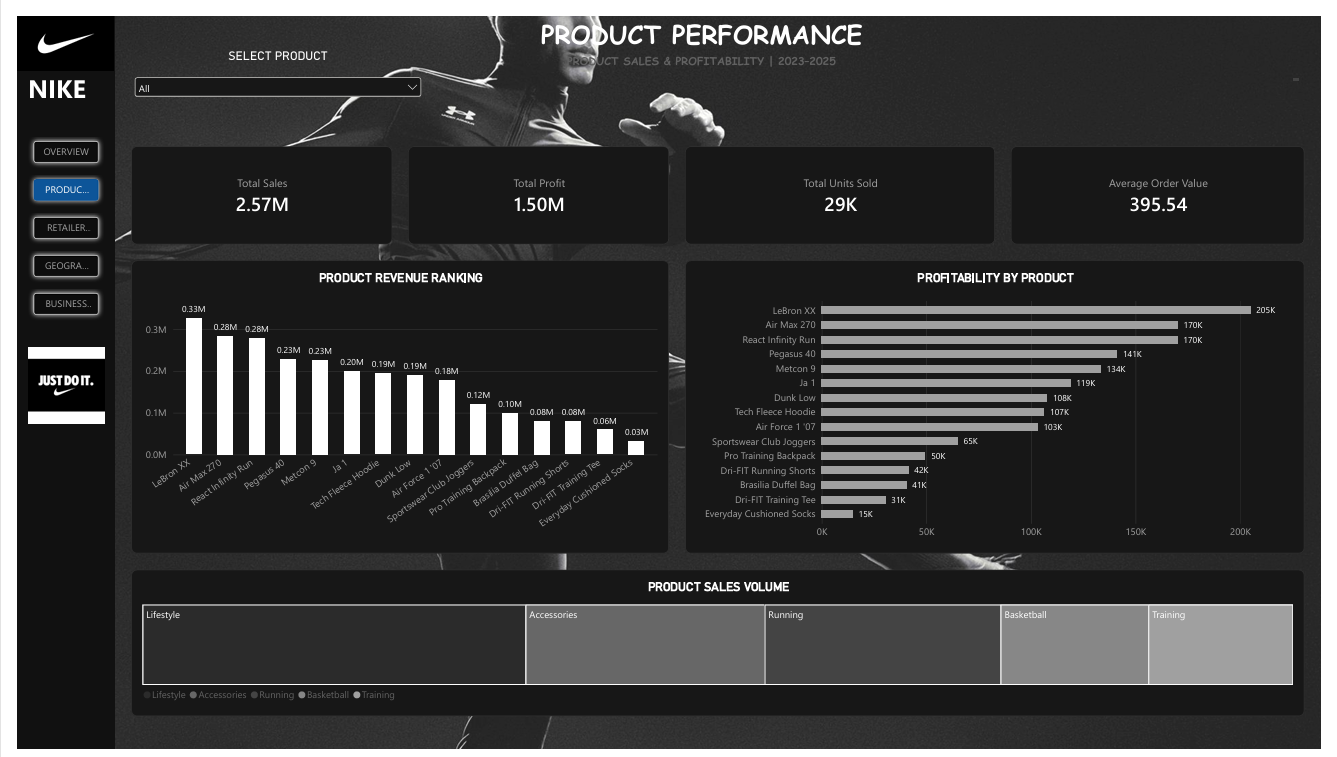

The dashboard page shown, as its layout file describes it:
{"tool":"powerbi","page":{"name":"PRODUCT ANALYSIS","canvas":[1920,1080],"ordinal":1},"visuals":[{"type":"group","id":"g1","title":"Group 1","box":[0,0,144,1080],"z":0},{"type":"image","box":[0,0,144,80],"z":1000},{"type":"textbox","title":"PRODUCT PERFORMANCE","box":[128,0,1760,96],"z":2000},{"type":"clusteredColumnChart","title":"PRODUCT REVENUE RANKING","fields":{"Category":["DimProduct.ProductName"],"Y":["FactOrders.Total Sales"]},"box":[168,360,792,432],"z":3000},{"type":"clusteredBarChart","title":"PROFITABILITY BY PRODUCT","fields":{"Category":["DimProduct.ProductName"],"Y":["FactOrders.Total Profit"]},"box":[984,360,912,432],"z":4000},{"type":"treemap","title":"PRODUCT SALES VOLUME","fields":{"Group":["DimProduct.Category"],"Values":["FactOrders.Total Units Sold"]},"box":[168,816,1728,216],"z":5000},{"type":"cardVisual","fields":{"Data":["FactOrders.Total Sales"]},"box":[168,192,384,144],"z":6000},{"type":"cardVisual","fields":{"Data":["FactOrders.Total Profit"]},"box":[576,192,384,144],"z":7000},{"type":"cardVisual","fields":{"Data":["FactOrders.Total Units Sold"]},"box":[984,192,456,144],"z":8000},{"type":"cardVisual","fields":{"Data":["FactOrders.Average Order Value"]},"box":[1464,192,432,144],"z":9000},{"type":"shape","box":[0,0,144,1080],"z":10000,"group":"g1"},{"type":"slicer","title":"SELECT PRODUCT","fields":{"Values":["DimProduct.ProductName"]},"box":[168,48,432,120],"z":10000},{"type":"textbox","box":[16,80,112,64],"z":11000,"group":"g1"},{"type":"pageNavigator","box":[16,176,112,272],"z":11000},{"type":"image","box":[16,480,112,128],"z":13000}]}

Visuals, with their boxes on the page's 1920x1080 design canvas (x1, y1, x2, y2). These are canvas units, not pixel positions in the 1337x757 screenshot, which may show the page scaled, cropped or inside an application window:
"Group 1" group: <region>0, 0, 144, 1080</region>
image: <region>0, 0, 144, 80</region>
"PRODUCT PERFORMANCE" textbox: <region>128, 0, 1888, 96</region>
"PRODUCT REVENUE RANKING" clusteredColumnChart: <region>168, 360, 960, 792</region>
"PROFITABILITY BY PRODUCT" clusteredBarChart: <region>984, 360, 1896, 792</region>
"PRODUCT SALES VOLUME" treemap: <region>168, 816, 1896, 1032</region>
cardVisual - FactOrders.Total Sales: <region>168, 192, 552, 336</region>
cardVisual - FactOrders.Total Profit: <region>576, 192, 960, 336</region>
cardVisual - FactOrders.Total Units Sold: <region>984, 192, 1440, 336</region>
cardVisual - FactOrders.Average Order Value: <region>1464, 192, 1896, 336</region>
shape: <region>0, 0, 144, 1080</region>
"SELECT PRODUCT" slicer: <region>168, 48, 600, 168</region>
textbox: <region>16, 80, 128, 144</region>
pageNavigator: <region>16, 176, 128, 448</region>
image: <region>16, 480, 128, 608</region>
